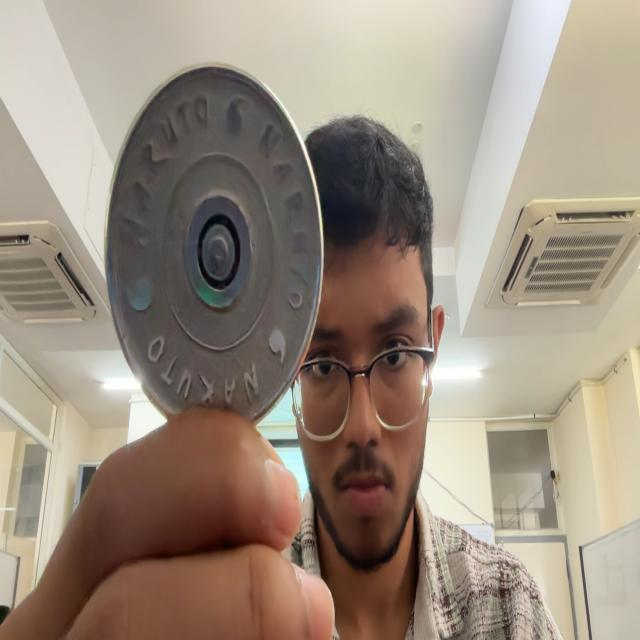dangerous: (105, 64, 324, 422)
